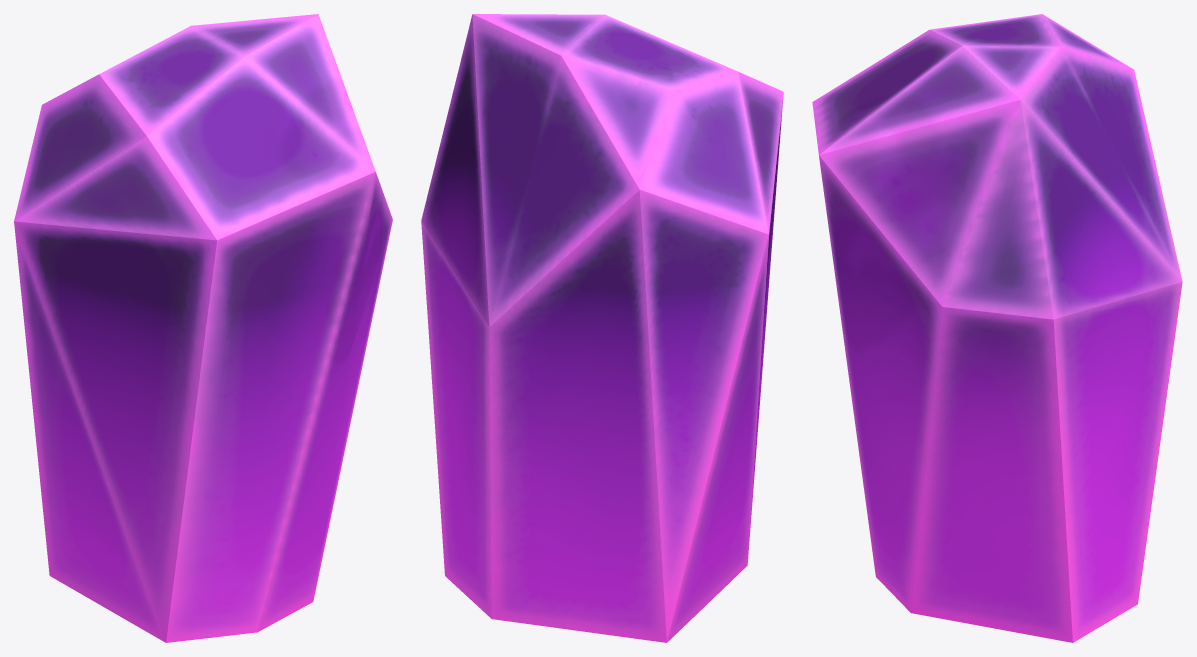
File: crystal_piece_003.fbx
3 renders of one model, left to right at view 1: azimuth 30°, elevation 25°; view 2: azimuth 150°, elevation 25°; view 3: azimuth 270°, elevation 25°, orthographic.
Visible parts, largest first — view 1: crystal_piece_003; view 2: crystal_piece_003; view 3: crystal_piece_003.
Part boxes in pixels (x1,y1,x2,y2): crystal_piece_003: (14, 14, 392, 642); crystal_piece_003: (421, 14, 783, 642); crystal_piece_003: (812, 14, 1182, 642).
Bounding box in the file's own units: 0.4903 × 0.7536 × 0.4632.
